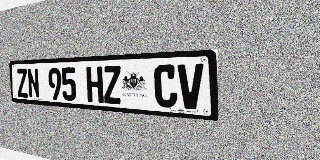5: (61, 67, 77, 101)
9: (48, 67, 62, 100)
C: (154, 64, 177, 108)
H: (86, 66, 104, 103)
N: (27, 68, 40, 99)
V: (178, 63, 204, 110)
Z: (103, 66, 122, 104), (16, 68, 28, 98)
